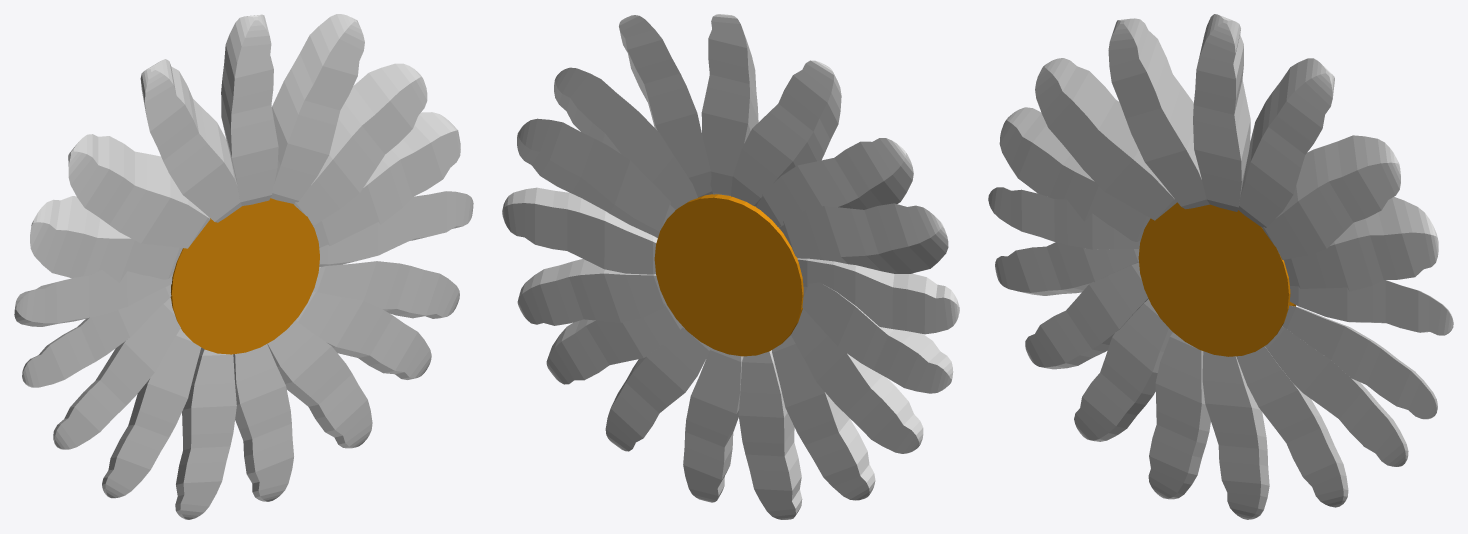
File: daisy.fbx
The picture shows the model from 3 angles, left to right: view 1: azimuth 30°, elevation 25°; view 2: azimuth 150°, elevation 25°; view 3: azimuth 330°, elevation 25°; orthographic projection.
Parts seen in each view (by area): view 1: Cylinder, Cube.014, Cube.025, Cube.016, Cube.026, Cube.027, Cube.028, Cube.024, Cube.020, Cube.019, Cube.017, Cube.021 (+6 smaller); view 2: Cylinder, Cube.024, Cube.028, Cube.026, Cube.015, Cube.025, Cube.022, Cube.016, Cube.020, Cube.023, Cube.021, Cube.018 (+6 smaller); view 3: Cylinder, Cube.025, Cube.026, Cube.016, Cube.014, Cube.027, Cube.028, Cube.020, Cube.019, Cube.021, Cube.024, Cube.017 (+6 smaller).
Part boxes in pixels (<box>): Cylinder: <box>170,198,319,354</box>; Cube.014: <box>270,14,364,204</box>; Cube.025: <box>68,134,210,248</box>; Cube.016: <box>294,63,427,225</box>; Cube.026: <box>140,59,241,222</box>; Cube.027: <box>221,14,278,205</box>; Cube.028: <box>313,112,460,247</box>; Cube.024: <box>30,196,182,282</box>; Cube.020: <box>175,347,236,519</box>; Cube.019: <box>233,344,293,501</box>; Cube.017: <box>267,320,372,448</box>; Cube.021: <box>102,328,201,498</box>; Cylinder: <box>654,194,803,356</box>; Cube.024: <box>779,203,948,273</box>; Cube.028: <box>517,118,675,237</box>; Cube.026: <box>731,60,841,206</box>; Cube.015: <box>502,187,657,274</box>; Cube.025: <box>756,138,913,227</box>; Cube.022: <box>791,309,923,453</box>; Cube.016: <box>554,67,697,209</box>; Cube.020: <box>738,350,802,519</box>; Cube.023: <box>802,282,953,393</box>; Cube.021: <box>772,335,875,500</box>; Cube.018: <box>517,259,664,325</box>; Cylinder: <box>1138,202,1296,356</box>; Cube.025: <box>1035,58,1177,220</box>; Cube.026: <box>1108,18,1209,209</box>; Cube.016: <box>1262,135,1400,259</box>; Cube.014: <box>1238,58,1334,227</box>; Cube.027: <box>1193,14,1250,211</box>; Cube.028: <box>1283,197,1438,291</box>; Cube.020: <box>1148,332,1210,499</box>; Cube.019: <box>1202,351,1269,519</box>; Cube.021: <box>1074,299,1172,441</box>; Cube.024: <box>999,107,1150,241</box>; Cube.017: <box>1236,346,1348,507</box>.
Bounding box in the file's own units: 263 × 270 × 12.78.
